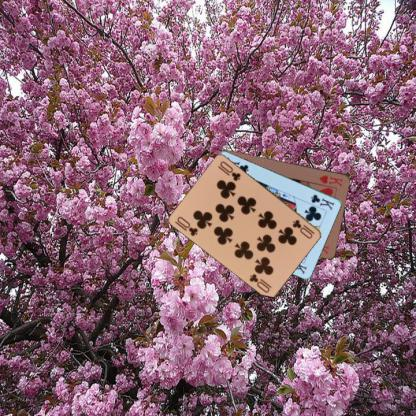10c: (290, 217, 316, 240), (174, 214, 200, 237)
Kc: (308, 192, 336, 211)
Kh: (317, 172, 344, 188)
